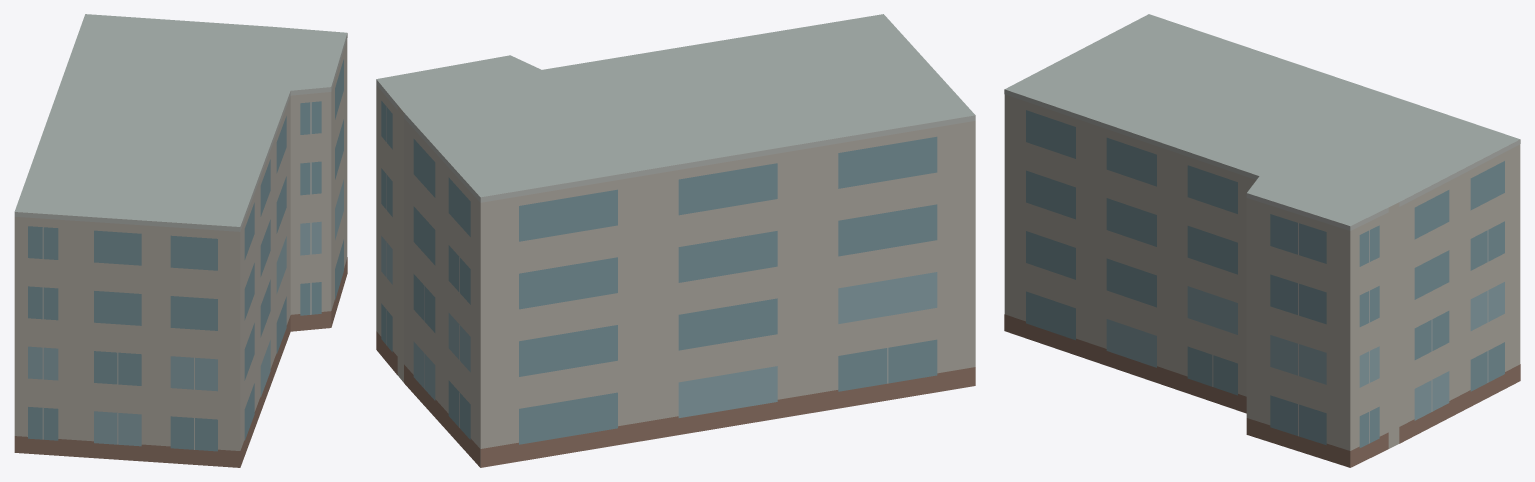
The model's file is survey-upis-32662455.glb.
The picture shows the model from 3 angles, left to right: view 1: azimuth 30°, elevation 25°; view 2: azimuth 150°, elevation 25°; view 3: azimuth 270°, elevation 25°; orthographic projection. The views are drawn at different scales.
Parts seen in each view (by area): view 1: survey-upis-32662455.tmp; view 2: survey-upis-32662455.tmp; view 3: survey-upis-32662455.tmp.
Boxes of the visible parts, x1=… form: survey-upis-32662455.tmp: x1=14, y1=14, x2=347, y2=467; survey-upis-32662455.tmp: x1=376, y1=14, x2=975, y2=467; survey-upis-32662455.tmp: x1=1004, y1=14, x2=1520, y2=467.
Bounding box in the file's own units: 22.79 × 12.1 × 23.41.
